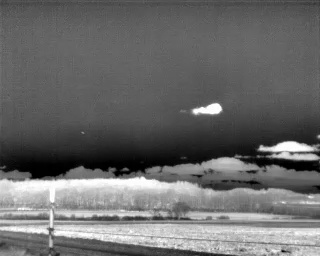DRONE: (188, 98, 225, 120)
